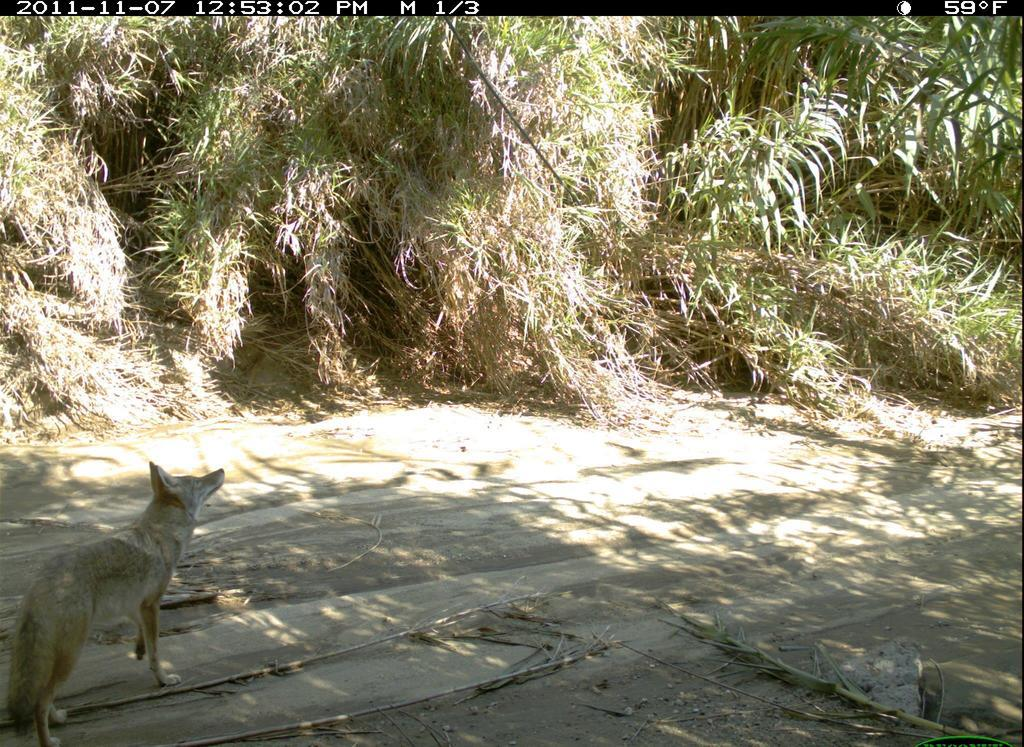coyote: (13, 459, 239, 740)
